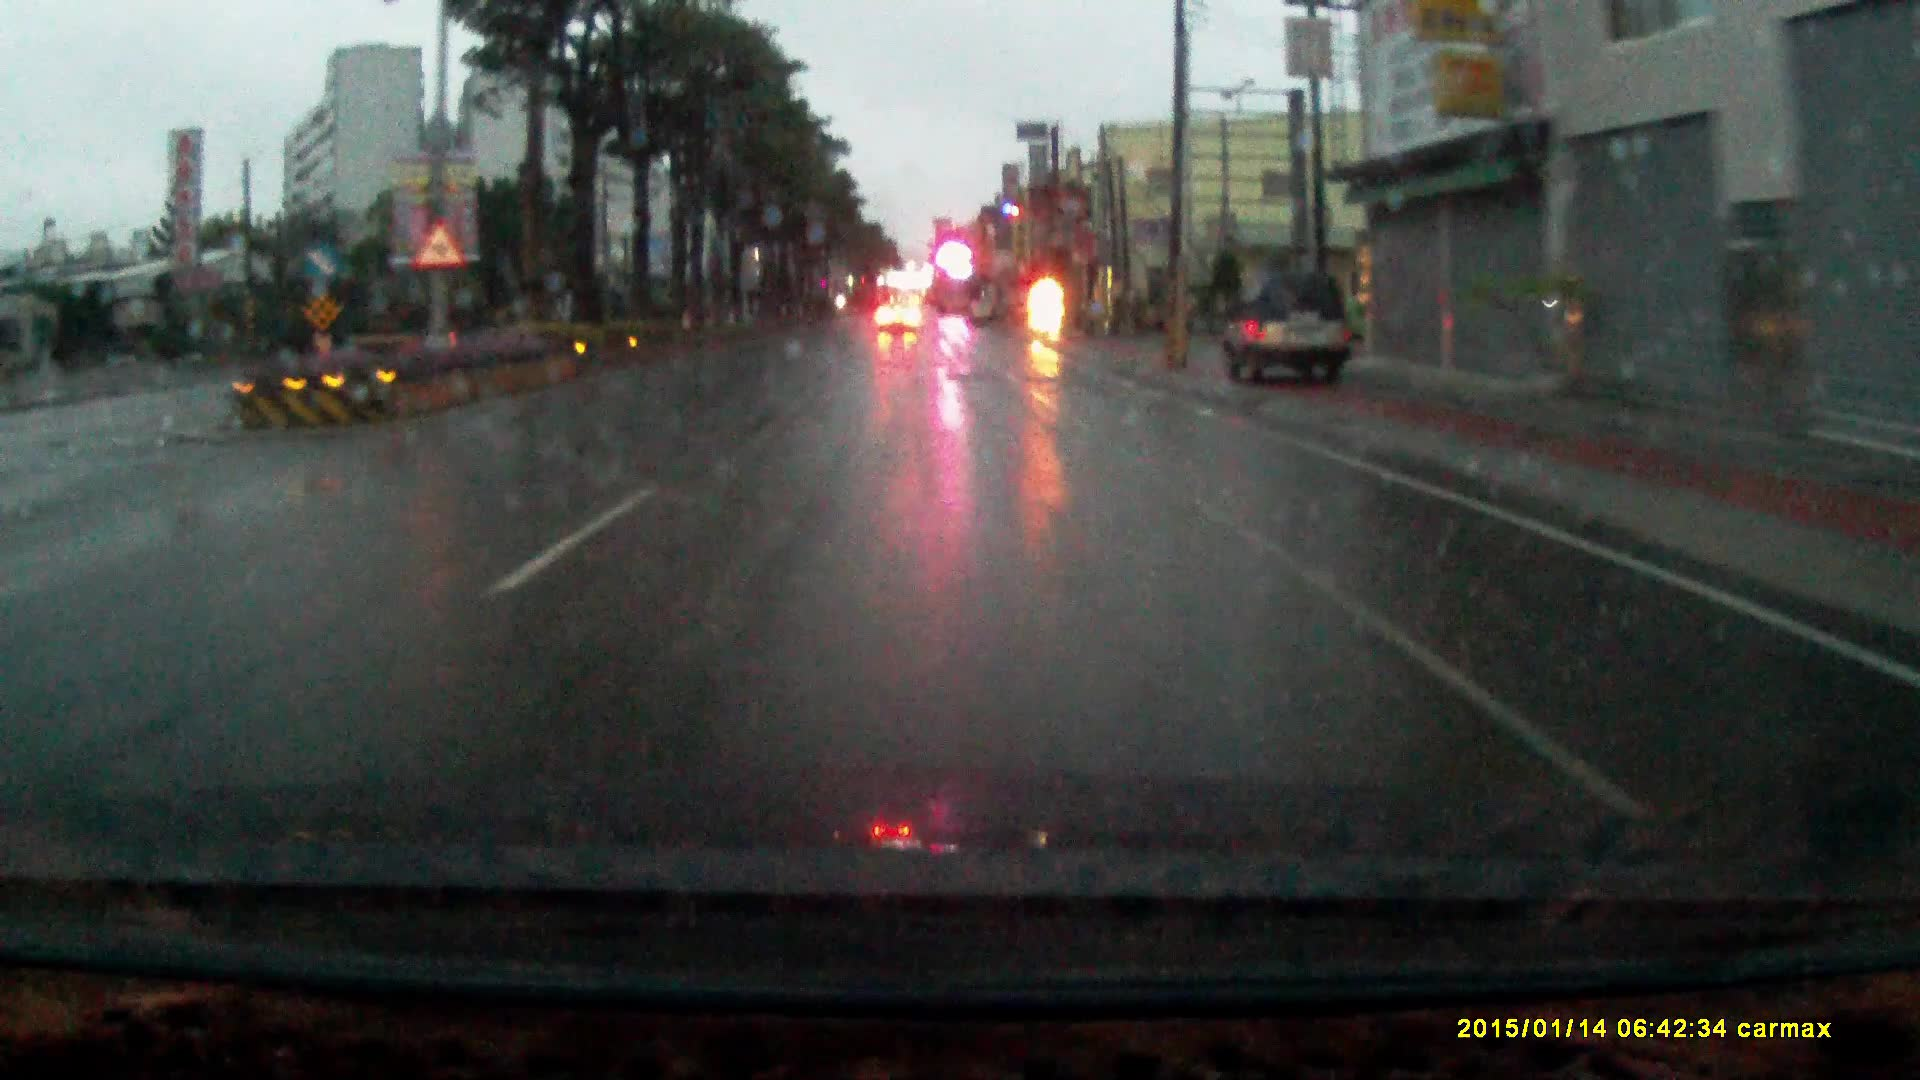vehicle: (1218, 260, 1360, 382), (873, 285, 919, 320)
